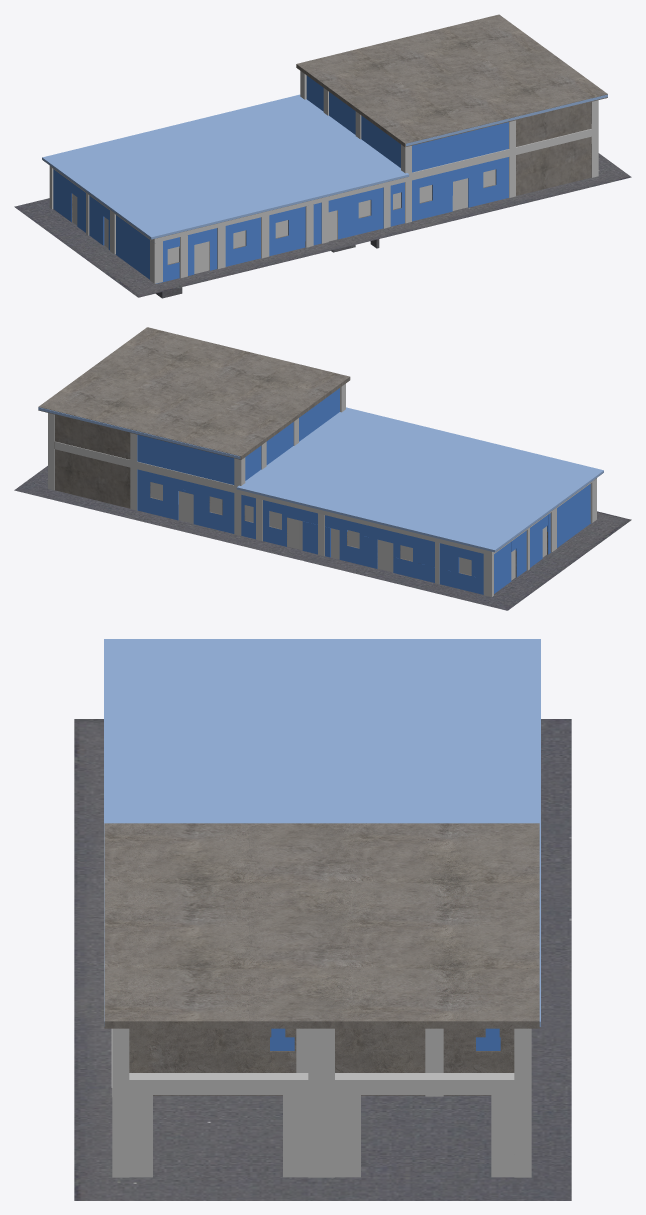
File: _151_substation_v_1_40_17.DAE
3 views of the same model, one above another, from view 1: azimuth 30°, elevation 25°; view 2: azimuth 150°, elevation 25°; view 3: azimuth 270°, elevation 25° (orthographic). The views are drawn at different scales.
Parts seen in each view (by area): view 1: S008-bb001, S008, S009_floor, S201-ins002, S007-bb005, S116-ins001, S007-bb020, S007-bb033, S007-bb002, S007-bb001, S007-bb044, S007-bb045 (+10 smaller); view 2: S008-bb001, S008, S009_floor, S201-ins001, S007-bb025, S007-bb022, S116, S007-bb033, S007-bb044, S007-bb040, S007-bb028, S007-bb045 (+13 smaller); view 3: S008, S008-bb001, S009_floor, S007_, S198, S196, S115, S193, S113_ins001, S112, S112-ins1, S193-ins001 (+2 smaller).
Part boxes in pixels (x1=…): S008-bb001: x1=42, y1=94, x2=409, y2=239; S008: x1=43, y1=14, x2=607, y2=239; S009_floor: x1=14, y1=153, x2=631, y2=298; S201-ins002: x1=516, y1=102, x2=591, y2=195; S007-bb005: x1=163, y1=157, x2=508, y2=250; S116-ins001: x1=154, y1=129, x2=591, y2=242; S007-bb020: x1=412, y1=122, x2=508, y2=172; S007-bb033: x1=306, y1=75, x2=400, y2=167; S007-bb002: x1=338, y1=196, x2=452, y2=239; S007-bb001: x1=210, y1=228, x2=321, y2=270; S007-bb044: x1=108, y1=210, x2=149, y2=279; S007-bb045: x1=77, y1=187, x2=104, y2=245; S008-bb001: x1=236, y1=407, x2=603, y2=552; S008: x1=38, y1=327, x2=602, y2=551; S009_floor: x1=14, y1=466, x2=631, y2=610; S201-ins001: x1=54, y1=414, x2=130, y2=508; S007-bb025: x1=137, y1=469, x2=483, y2=562; S007-bb022: x1=137, y1=434, x2=234, y2=484; S116: x1=55, y1=441, x2=491, y2=555; S007-bb033: x1=245, y1=388, x2=339, y2=480; S007-bb044: x1=547, y1=484, x2=590, y2=554; S007-bb040: x1=393, y1=557, x2=483, y2=594; S007-bb028: x1=193, y1=508, x2=286, y2=546; S007-bb045: x1=515, y1=519, x2=542, y2=577; S008: x1=104, y1=823, x2=539, y2=1028; S008-bb001: x1=104, y1=639, x2=540, y2=824; S009_floor: x1=74, y1=719, x2=571, y2=1200; S007_: x1=129, y1=1028, x2=514, y2=1095; S198: x1=129, y1=1073, x2=514, y2=1094; S196: x1=283, y1=1095, x2=360, y2=1177; S115: x1=308, y1=1028, x2=334, y2=1177; S193: x1=514, y1=1028, x2=531, y2=1177; S113_ins001: x1=112, y1=1028, x2=129, y2=1177; S112: x1=491, y1=1084, x2=514, y2=1177; S112-ins1: x1=129, y1=1095, x2=152, y2=1177; S193-ins001: x1=112, y1=1029, x2=129, y2=1177.
Size of what is drawn, in the model's own units: 412 by 180 by 88.51.
